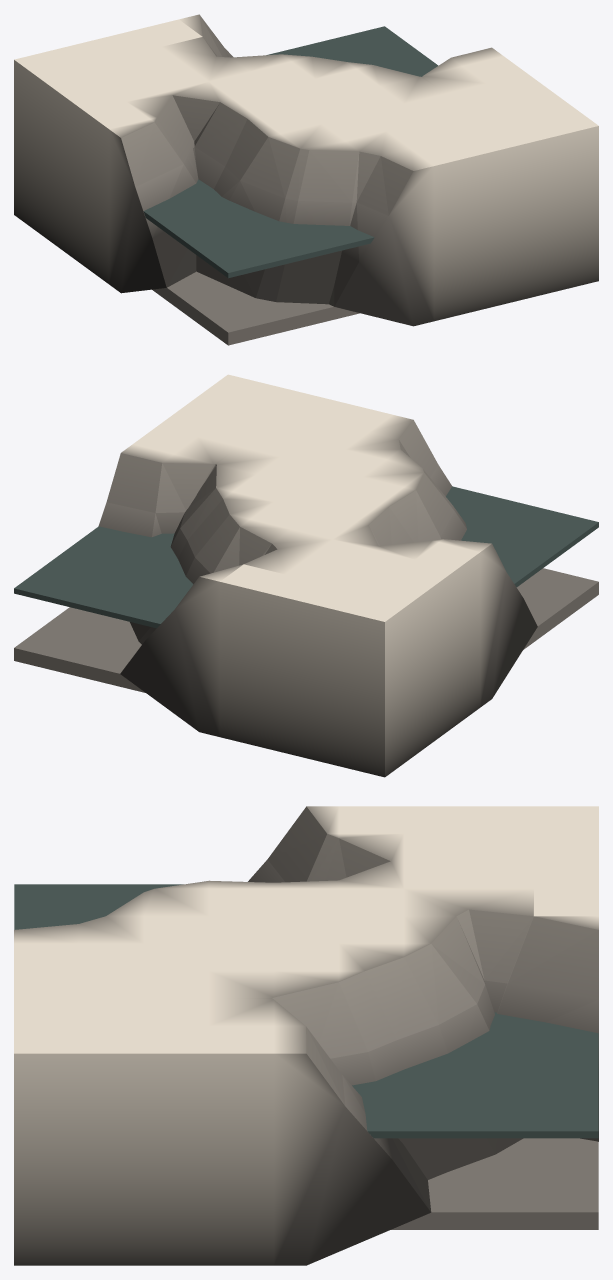
Rendered from SM_VKI_Ground_Stream_XOXO_Q10.fbx.
3 views of the same model, one above another, from view 1: azimuth 30°, elevation 25°; view 2: azimuth 150°, elevation 25°; view 3: azimuth 270°, elevation 25° (orthographic). The views are drawn at different scales.
Parts seen in each view (by area): view 1: SM_VKI_Ground_Stream_XOXO_Q10.001; view 2: SM_VKI_Ground_Stream_XOXO_Q10.001; view 3: SM_VKI_Ground_Stream_XOXO_Q10.001.
Boxes of the visible parts, x1,y1,x2,y2 form: SM_VKI_Ground_Stream_XOXO_Q10.001: (14,14,598,345); SM_VKI_Ground_Stream_XOXO_Q10.001: (14,374,598,777); SM_VKI_Ground_Stream_XOXO_Q10.001: (14,806,598,1265).
Bounding box in the file's own units: 1.5 × 0.6 × 1.5.
